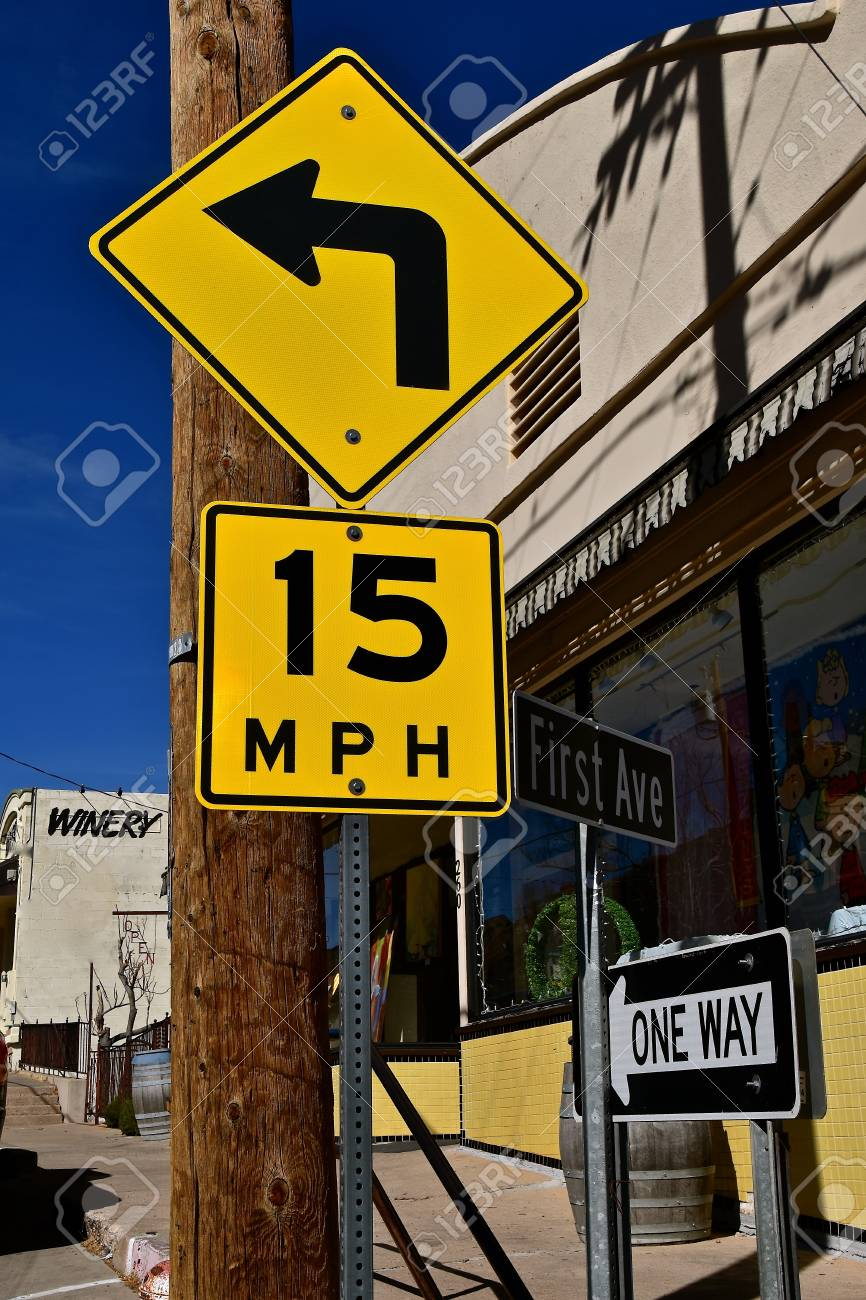left: (76, 38, 588, 517)
